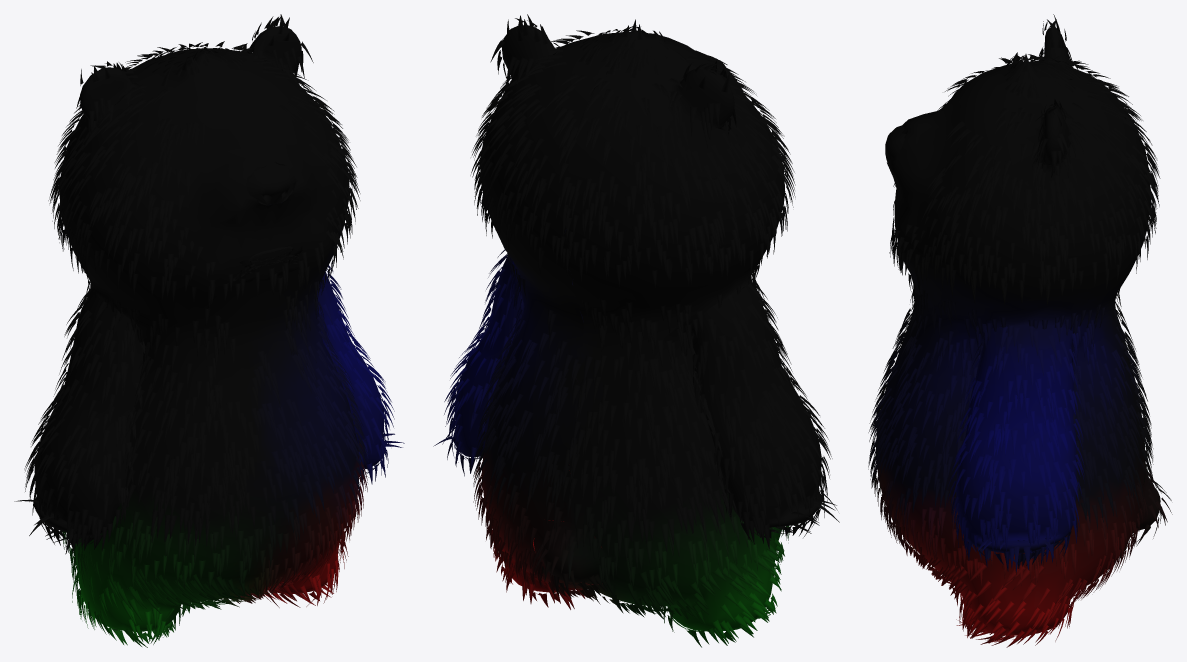
The model's file is bear_table_groom_v3.glb.
3 renders of one model, left to right at view 1: azimuth 30°, elevation 25°; view 2: azimuth 150°, elevation 25°; view 3: azimuth 270°, elevation 25°, orthographic. The views are drawn at different scales.
Parts seen in each view (by area): view 1: BoundedShellGroom, LayeredCurvedGroom; view 2: BoundedShellGroom, LayeredCurvedGroom; view 3: BoundedShellGroom, LayeredCurvedGroom.
Boxes of the visible parts, x1=… form: BoundedShellGroom: x1=33, y1=26, x2=384, y2=631; LayeredCurvedGroom: x1=14, y1=14, x2=404, y2=647; BoundedShellGroom: x1=453, y1=25, x2=822, y2=631; LayeredCurvedGroom: x1=433, y1=14, x2=839, y2=647; BoundedShellGroom: x1=876, y1=27, x2=1160, y2=635; LayeredCurvedGroom: x1=868, y1=14, x2=1172, y2=647.
Size of the model in its own units: 1.76 by 2.57 by 1.3.
Materials: 2 (2 with a texture image).
